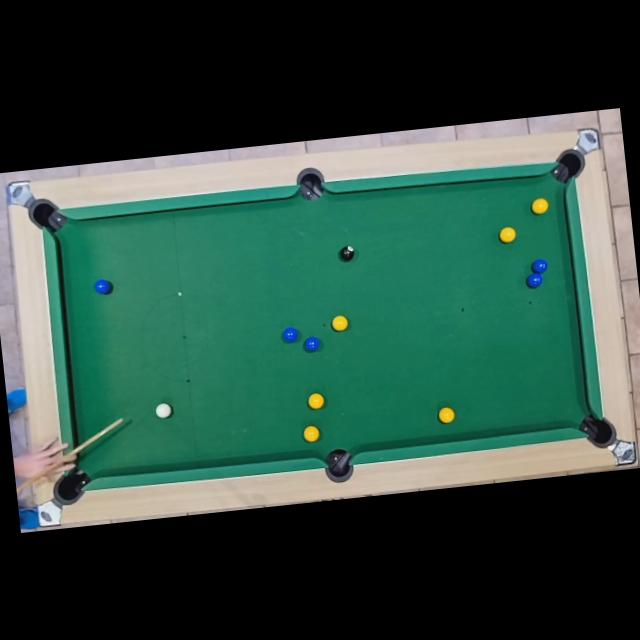Ball: (532, 197, 550, 216), (437, 406, 456, 424), (282, 326, 300, 344), (499, 226, 517, 244), (302, 424, 320, 442), (94, 279, 113, 296), (331, 314, 348, 332), (307, 392, 324, 410), (530, 258, 548, 274), (339, 244, 355, 262), (304, 336, 320, 352), (526, 272, 542, 288), (154, 403, 170, 419)
